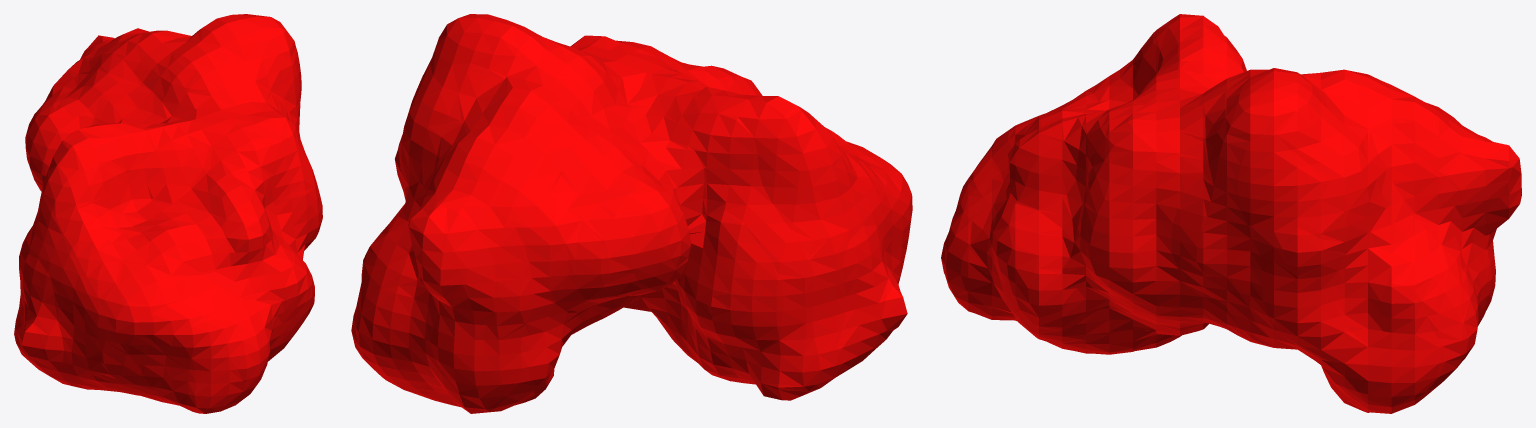
Rendered from mak_coarse.dae.
3 renders of one model, left to right at view 1: azimuth 30°, elevation 25°; view 2: azimuth 150°, elevation 25°; view 3: azimuth 270°, elevation 25°, orthographic. The views are drawn at different scales.
Visible parts, largest first — view 1: mak; view 2: mak; view 3: mak.
Boxes of the visible parts, box(x1,y1,x2,y2) form: mak: box(14, 14, 322, 413); mak: box(351, 14, 912, 413); mak: box(941, 14, 1521, 413).
Bounding box in the file's own units: 56.82 × 45.91 × 69.44.
